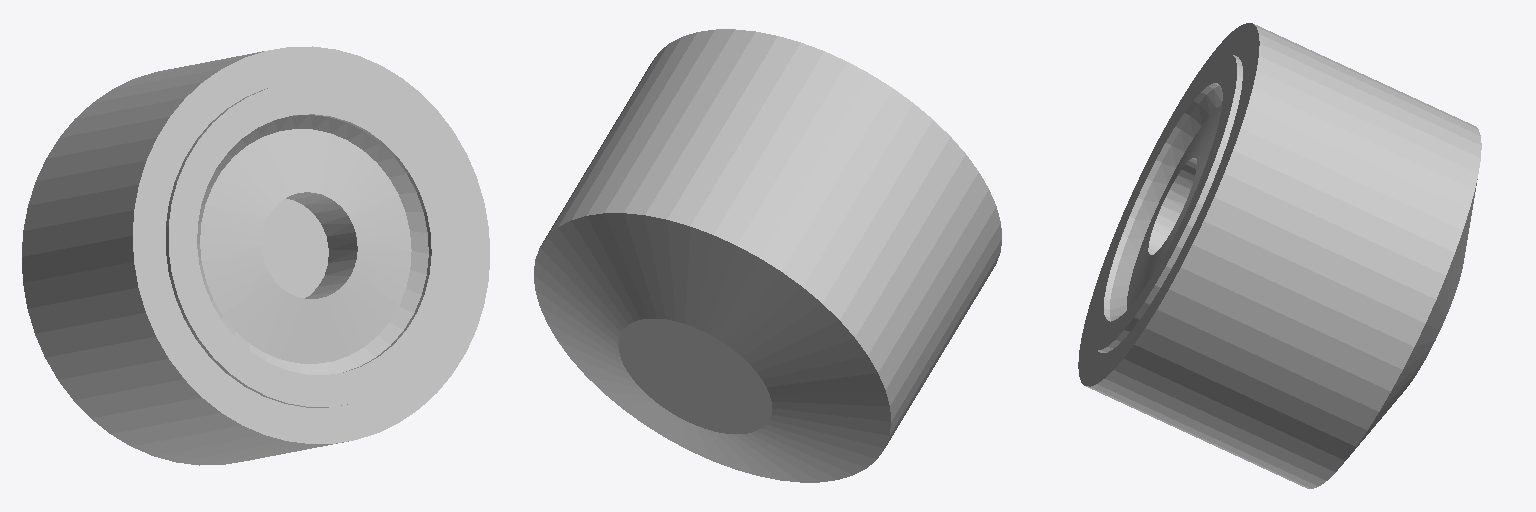
The model's file is Масляный фильтр.obj.
3 views of the same model, side by side, from view 1: azimuth 30°, elevation 25°; view 2: azimuth 150°, elevation 25°; view 3: azimuth 270°, elevation 25° (orthographic).
Parts seen in each view (by area): view 1: Маслянный_фильтр; view 2: Маслянный_фильтр; view 3: Маслянный_фильтр.
Part boxes in pixels (x1,y1,x2,y2): Маслянный_фильтр: (22, 46, 489, 465); Маслянный_фильтр: (534, 29, 1001, 482); Маслянный_фильтр: (1078, 23, 1481, 488).
Bounding box in the file's own units: 93 × 109 × 93.9.